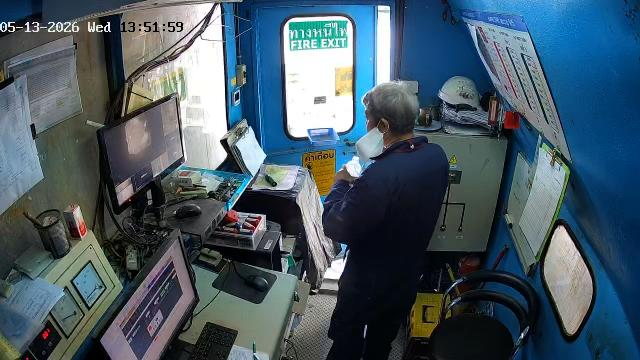Head: (362, 81, 419, 145)
People: (323, 82, 448, 359)
